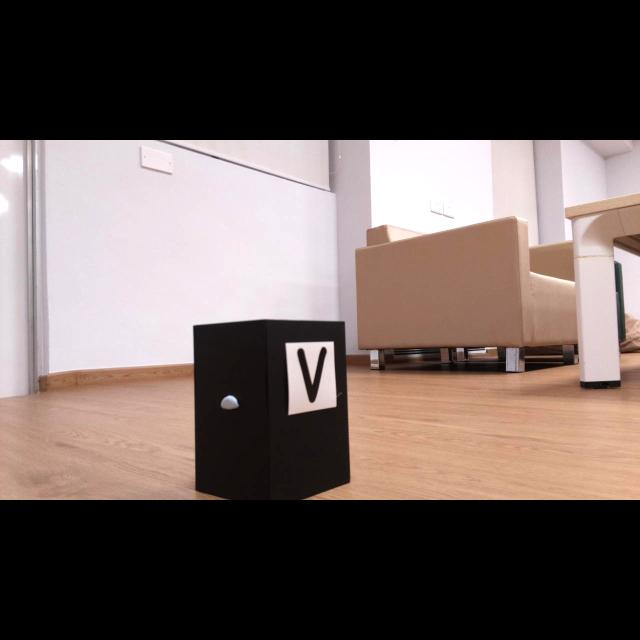V: (298, 347, 327, 404)
